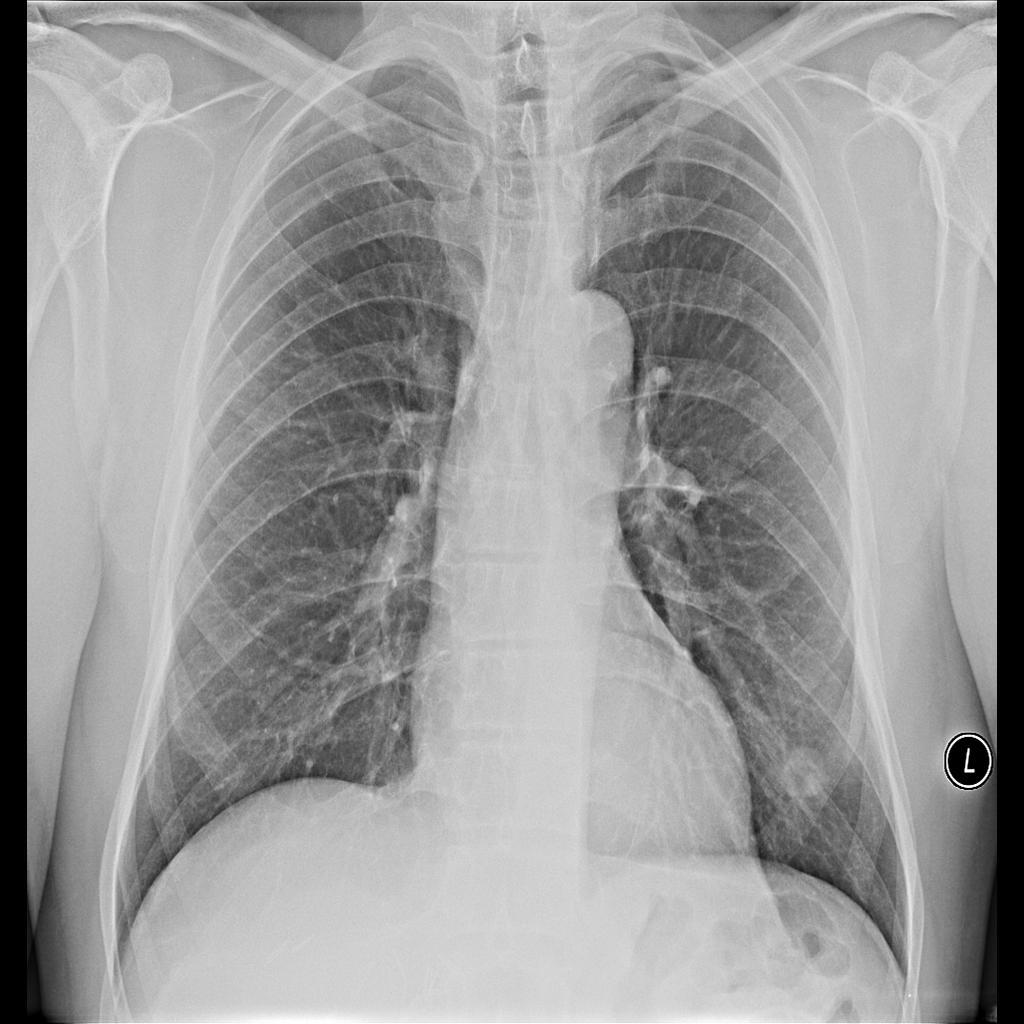Nodule: (777, 742, 838, 808)
